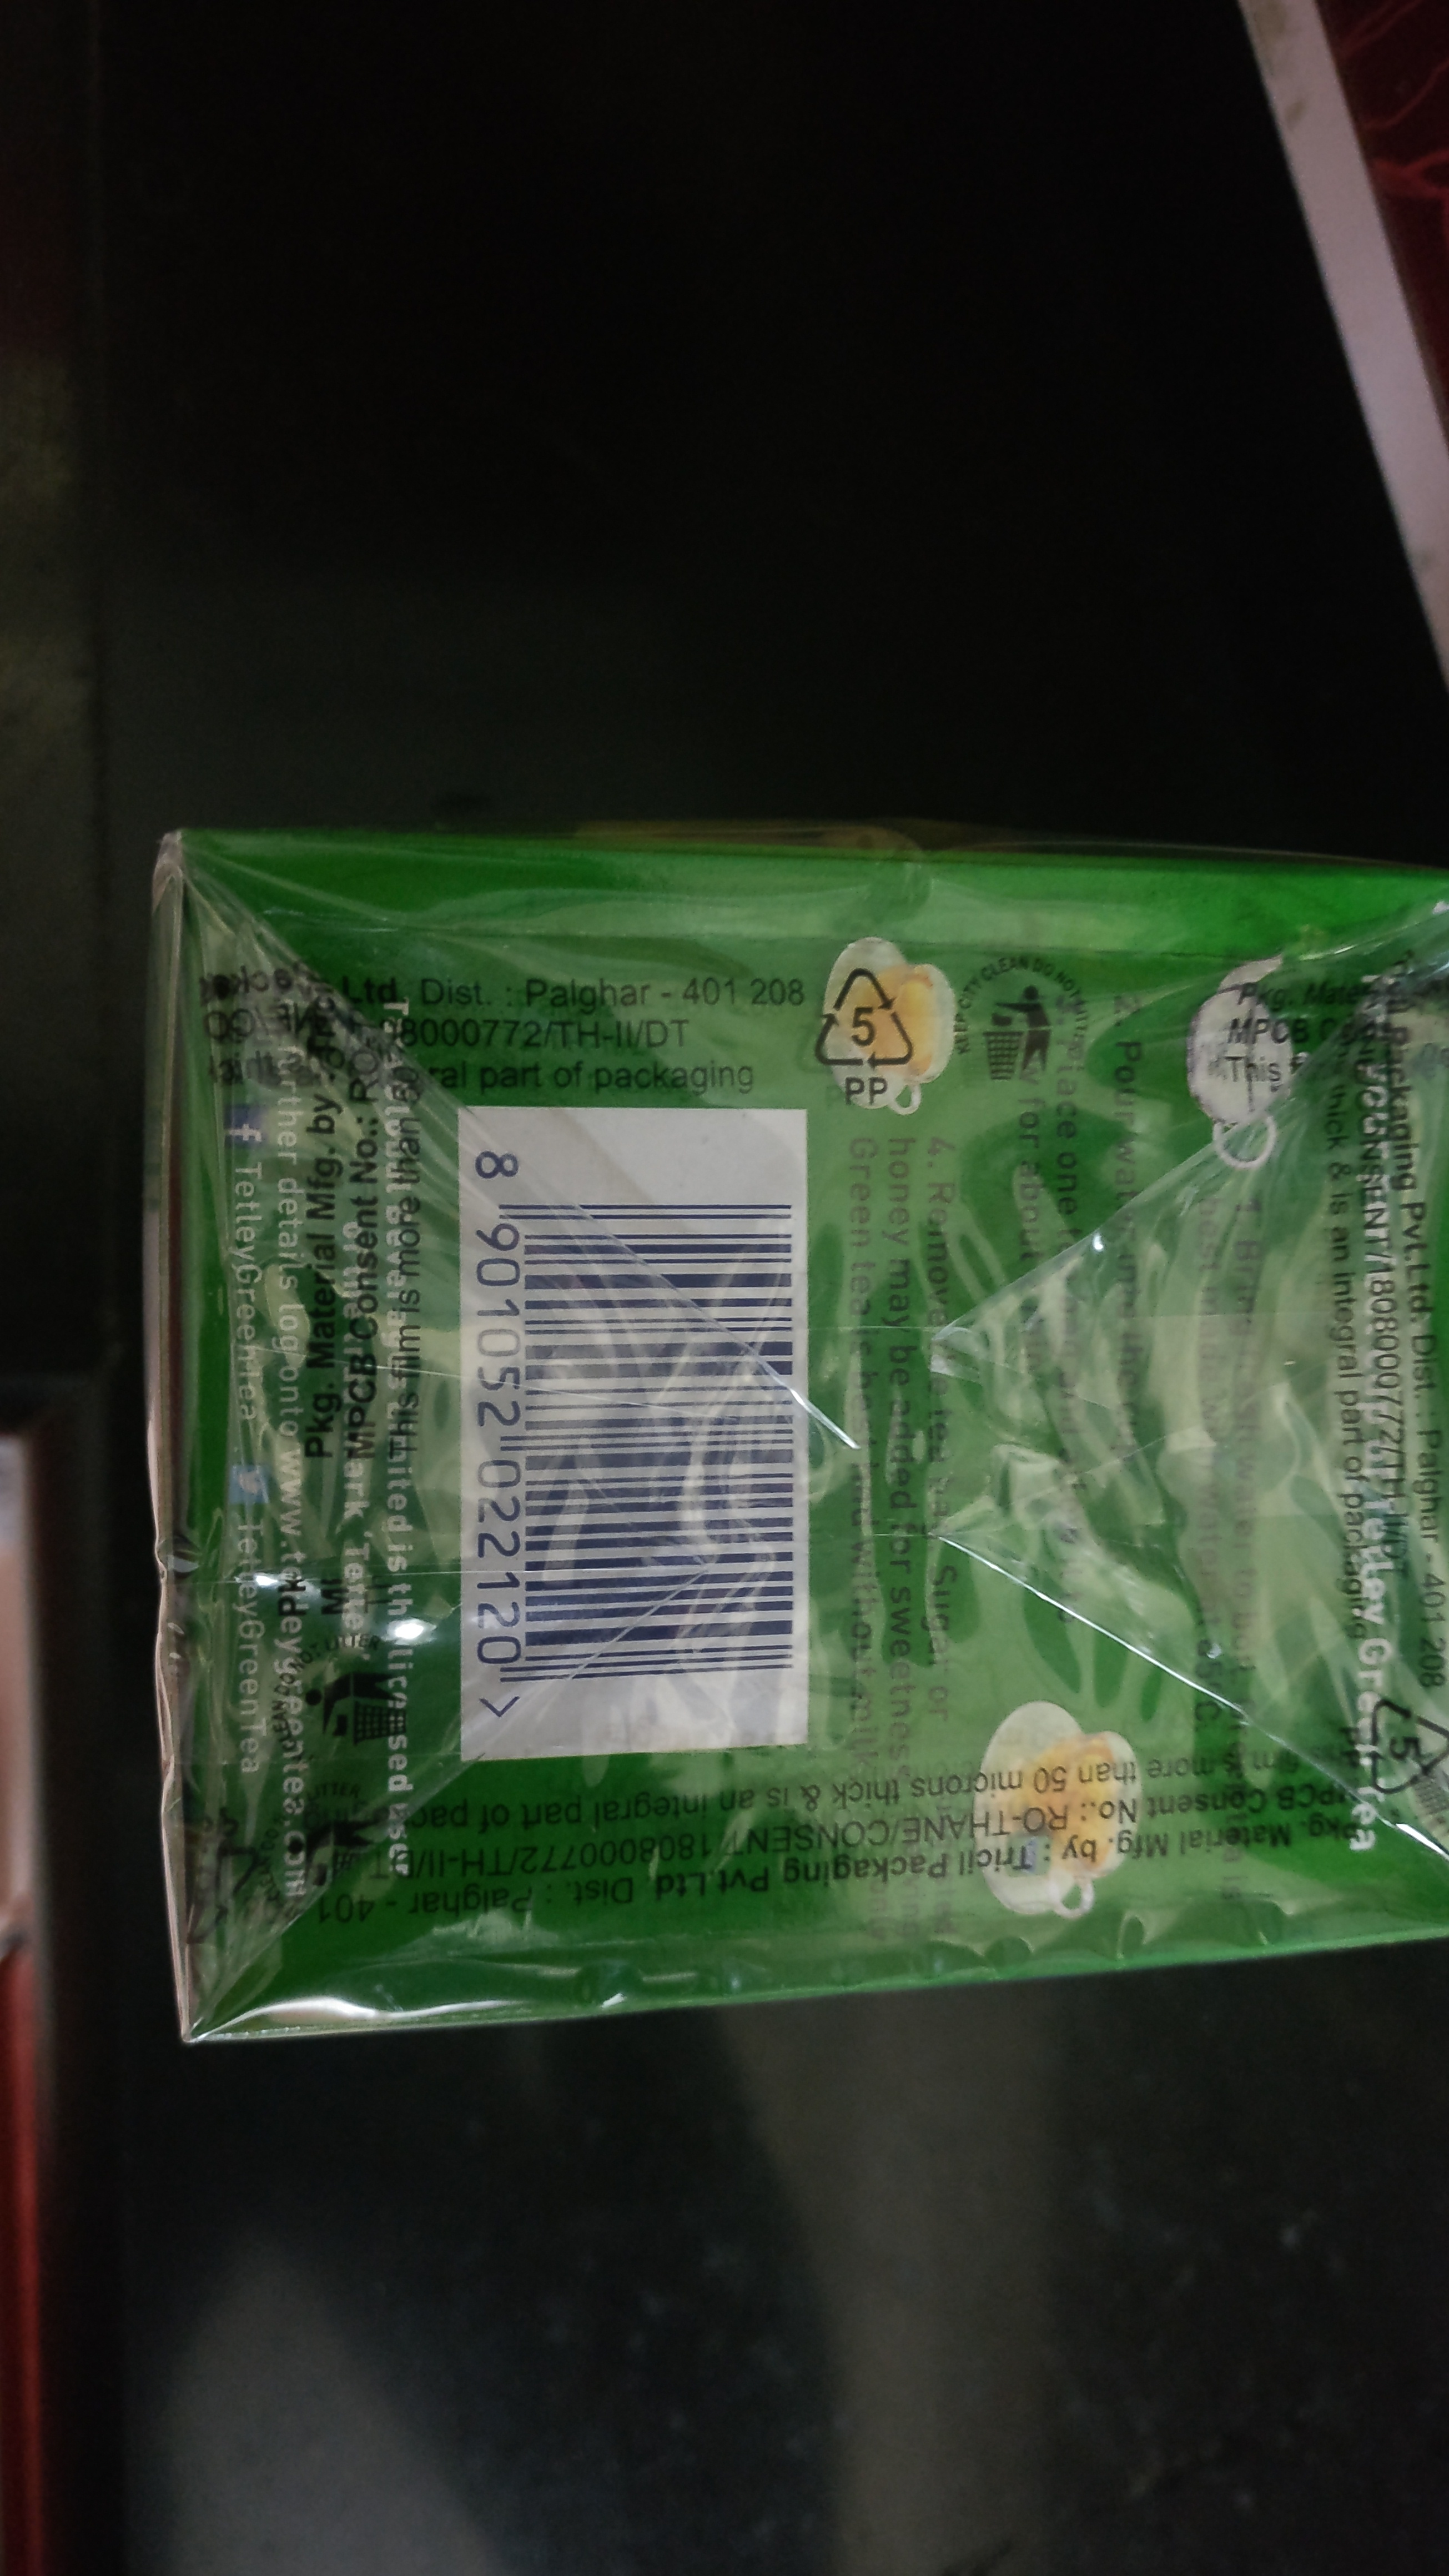barcode: (451, 1116, 826, 1729)
